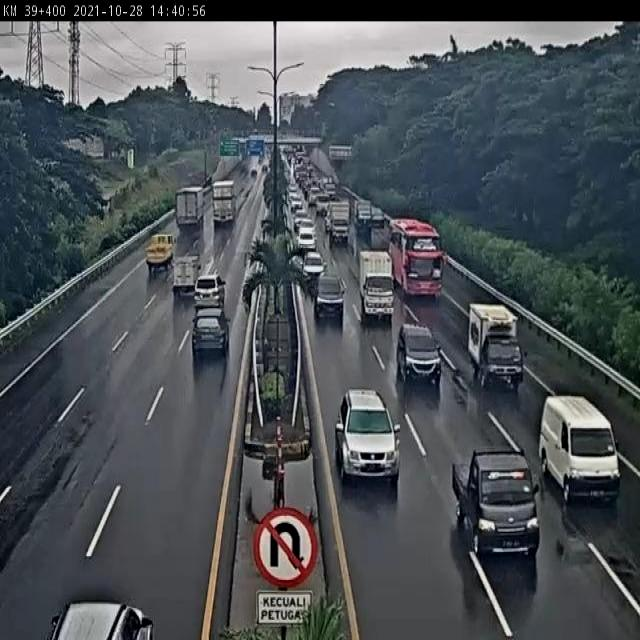Car: (452, 449, 540, 558), (334, 388, 400, 486), (42, 599, 156, 638), (396, 323, 443, 388), (191, 306, 230, 357), (314, 274, 346, 324), (194, 272, 228, 308), (302, 251, 325, 284), (296, 219, 316, 250), (288, 190, 303, 214), (322, 178, 336, 199), (309, 188, 323, 208)
Truck: (468, 302, 525, 391), (388, 218, 446, 299), (358, 250, 394, 324), (175, 186, 207, 230), (172, 254, 201, 298), (145, 234, 175, 272), (211, 180, 236, 225), (356, 202, 386, 238), (328, 200, 351, 244)
Van: (543, 396, 621, 501)
